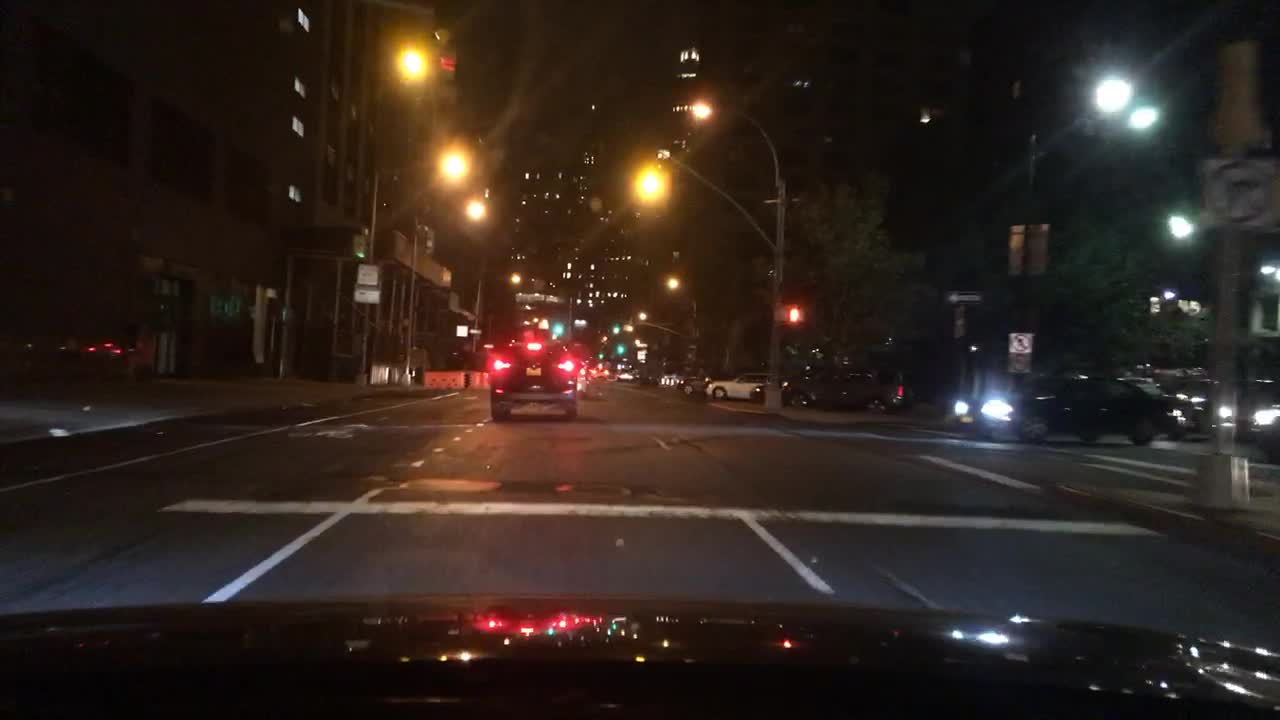car: (948, 374, 1190, 446), (752, 363, 908, 414), (487, 336, 580, 415), (1220, 379, 1279, 457), (1171, 375, 1238, 441), (707, 370, 768, 398), (676, 375, 711, 399), (588, 365, 612, 383), (618, 370, 636, 381)
traffic light: (434, 39, 456, 107), (779, 303, 801, 324), (555, 321, 565, 336), (611, 319, 618, 331), (620, 343, 626, 356)
traffic sign: (1200, 154, 1279, 232), (1005, 331, 1033, 369), (348, 286, 381, 304), (355, 265, 380, 288), (947, 290, 980, 303)
